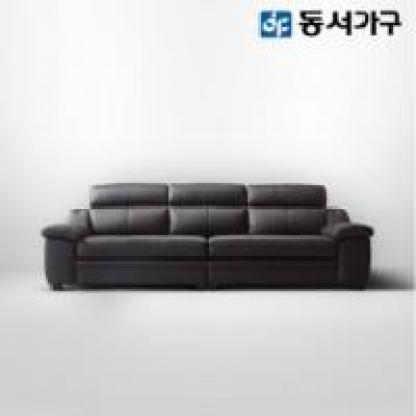sofa: (31, 179, 387, 287)
